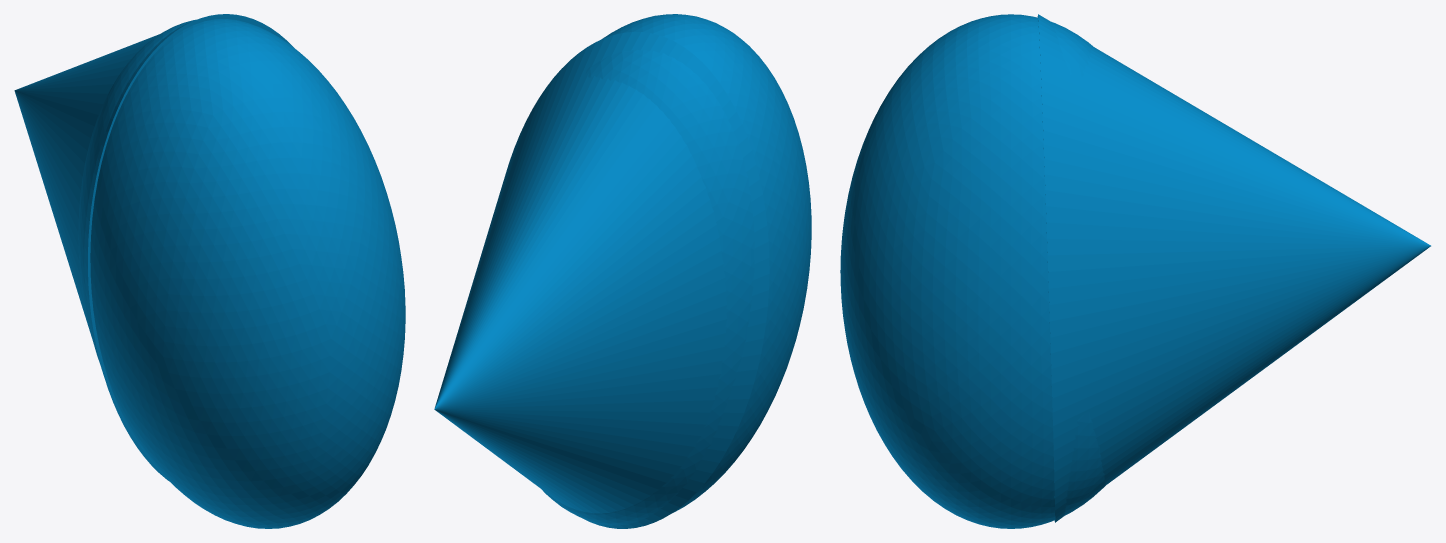
3 renders of one model, left to right at view 1: azimuth 30°, elevation 25°; view 2: azimuth 150°, elevation 25°; view 3: azimuth 270°, elevation 25°, orthographic. The views are drawn at different scales.
Visible parts, largest first — view 1: Object.2, Object.1; view 2: Object.1, Object.2; view 3: Object.1, Object.2.
Boxes of the visible parts, x1=… form: Object.2: x1=78, y1=19, x2=405, y2=528; Object.1: x1=14, y1=14, x2=293, y2=481; Object.1: x1=434, y1=32, x2=769, y2=528; Object.2: x1=542, y1=14, x2=811, y2=525; Object.1: x1=1037, y1=14, x2=1430, y2=522; Object.2: x1=840, y1=14, x2=1105, y2=528.
Bounding box in the file's own units: 31.49 × 54.85 × 61.35.
